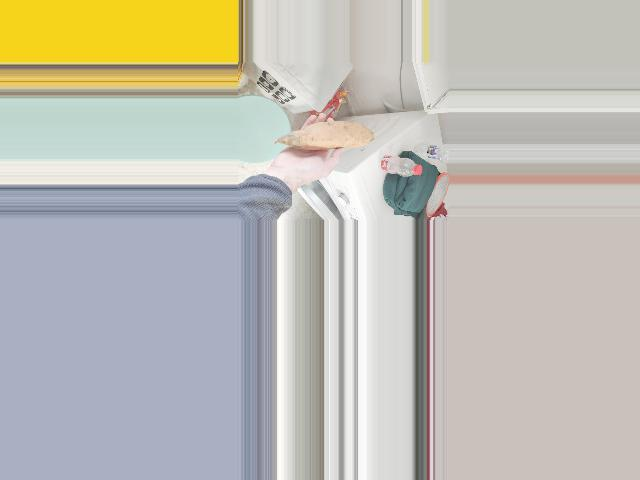sweet_potato: (295, 122, 382, 155)
